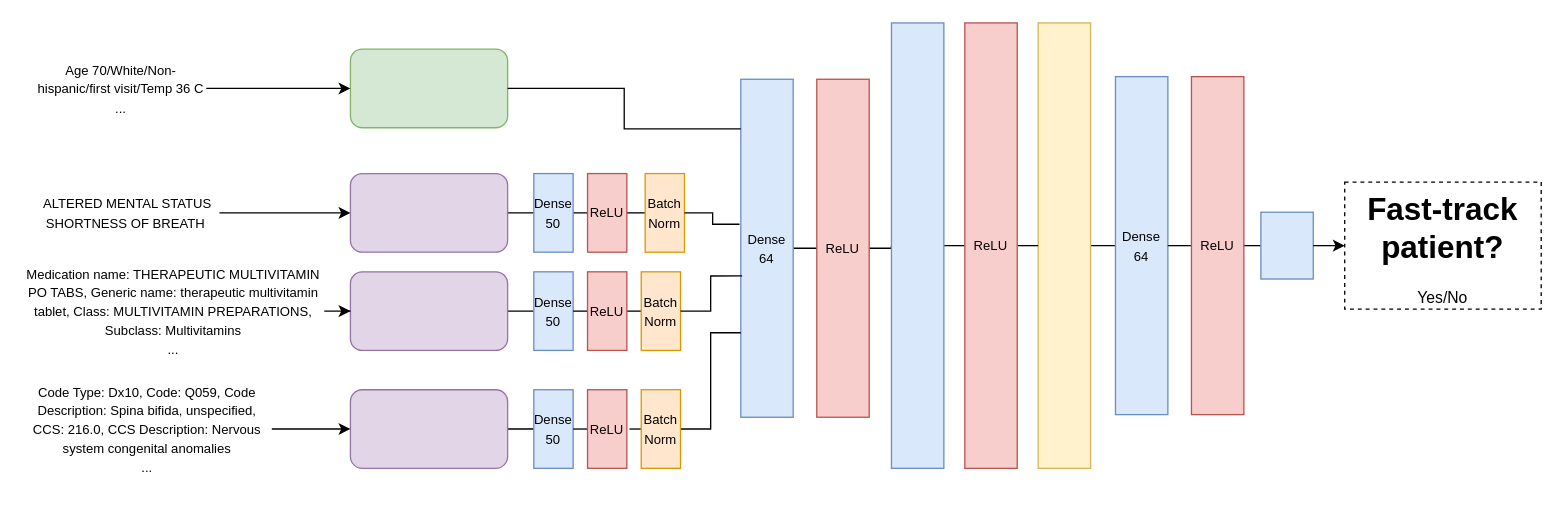
Image size: 1564x517. Some labels were removed from this diagram. Each missing label, with the box of its shape:
Chief Complaint Embedding: (349, 172, 508, 252)
Dense 128: (890, 22, 944, 468)
Dense 2: (1260, 211, 1313, 279)
Dropout: (1037, 22, 1091, 468)
Home Medications Embedding: (349, 271, 508, 350)
Past Medical History Embedding: (349, 388, 508, 468)
Raw + Engineered Features: (349, 48, 508, 128)
